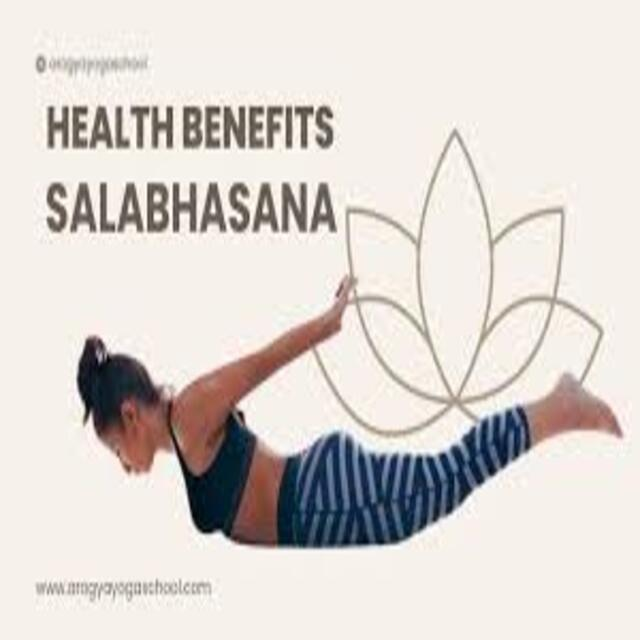Locust_Pose: (74, 273, 631, 552)
